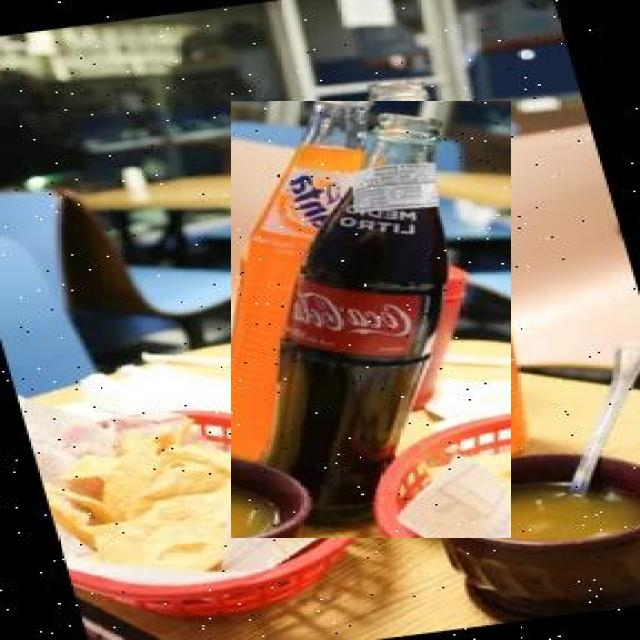coca-cola: (231, 101, 511, 538)
